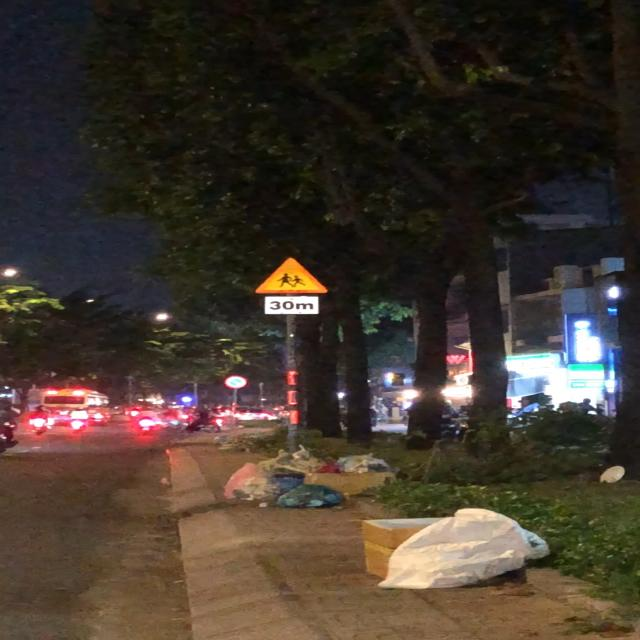Bien bao tre em: (250, 257, 334, 296)
